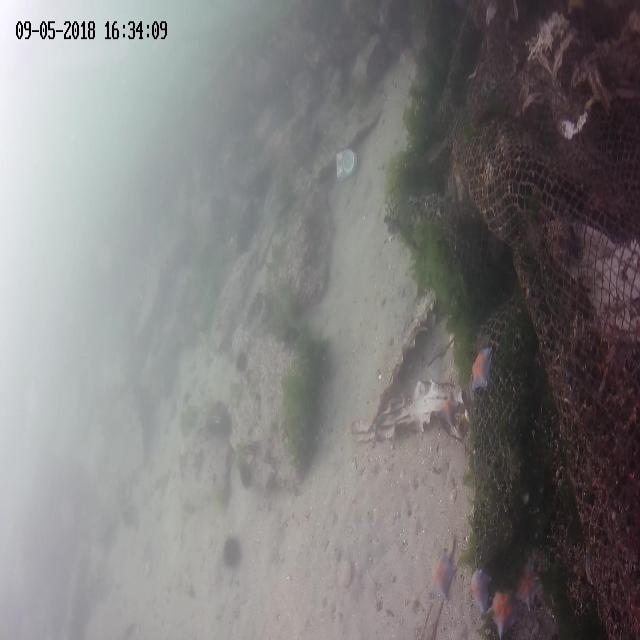echinus: (222, 533, 240, 567), (239, 461, 252, 487), (233, 348, 247, 370)
scallop: (337, 558, 352, 588)
starfish: (490, 587, 516, 638), (428, 550, 456, 595), (469, 347, 490, 392), (470, 566, 491, 610), (438, 391, 460, 429), (518, 573, 540, 608)
